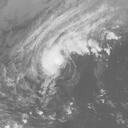cyclone: (34, 37, 71, 80)
